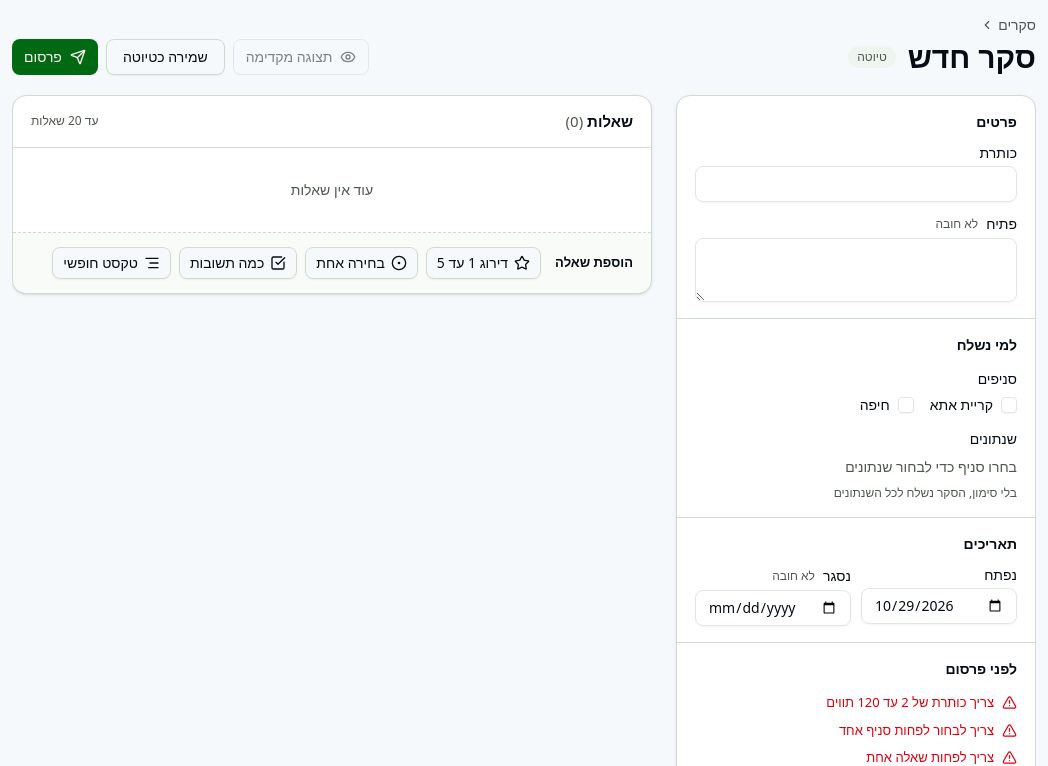
Test: SurveyBuilder: the audience › ticking a branch asks for its birth years and shows each with its head count
Step 1. Click the checkbox named "קריית אתא" next to "קריית אתא" → x=1009, y=405, box x1=1001 y1=397 x2=1017 y2=413
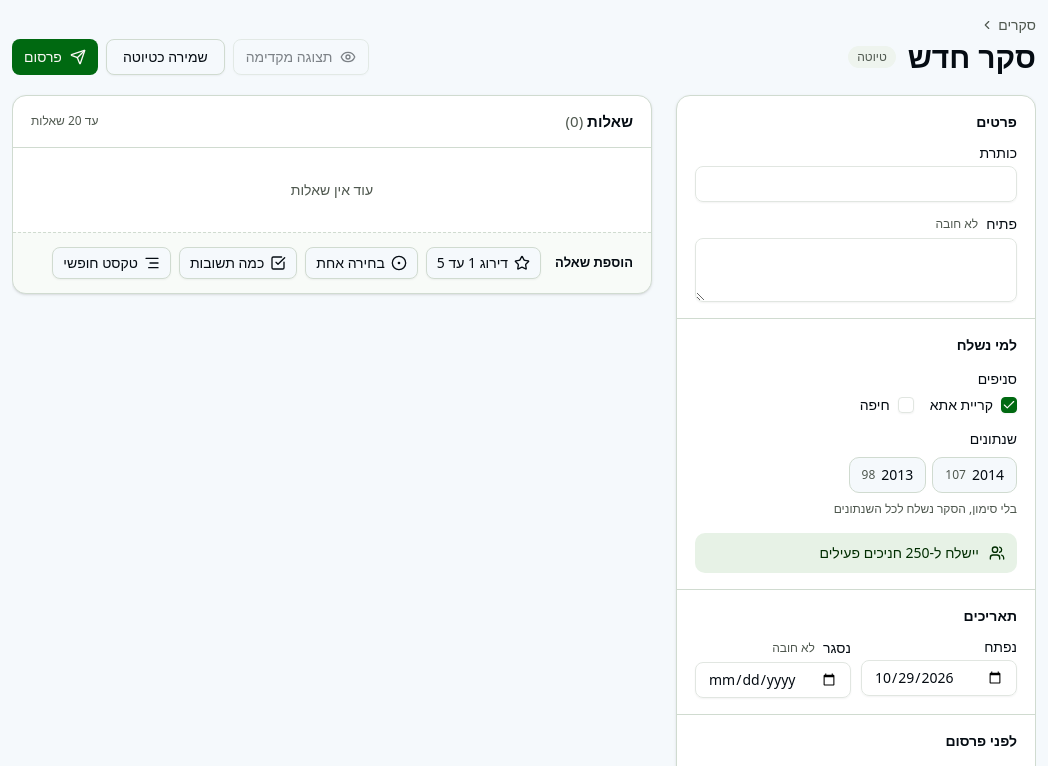
Expected: the button named "2014, 107 חניכים" is shown, x1=932 y1=457 x2=1017 y2=493
Expected: the button named "2013, 98 חניכים" is shown, x1=849 y1=457 x2=926 y2=493
Expected: the message reads "יישלח ל-250 חניכים פעילים", x1=820 y1=543 x2=979 y2=562
